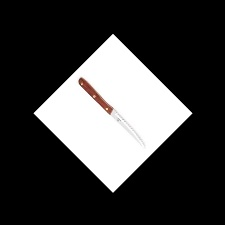k1: (105, 104, 147, 150)
